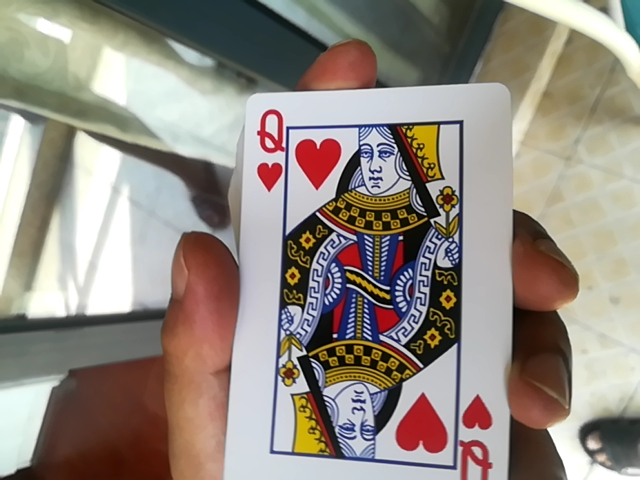hx q: (212, 80, 495, 474)
